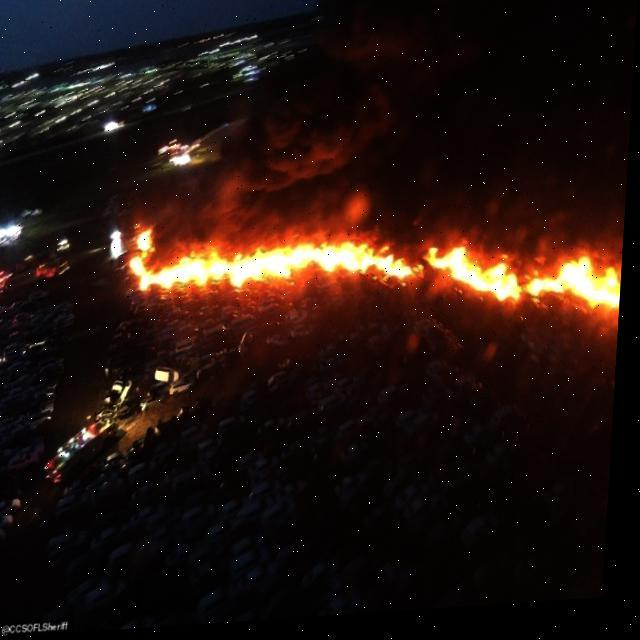Fire: (134, 220, 419, 306), (432, 239, 624, 327)
